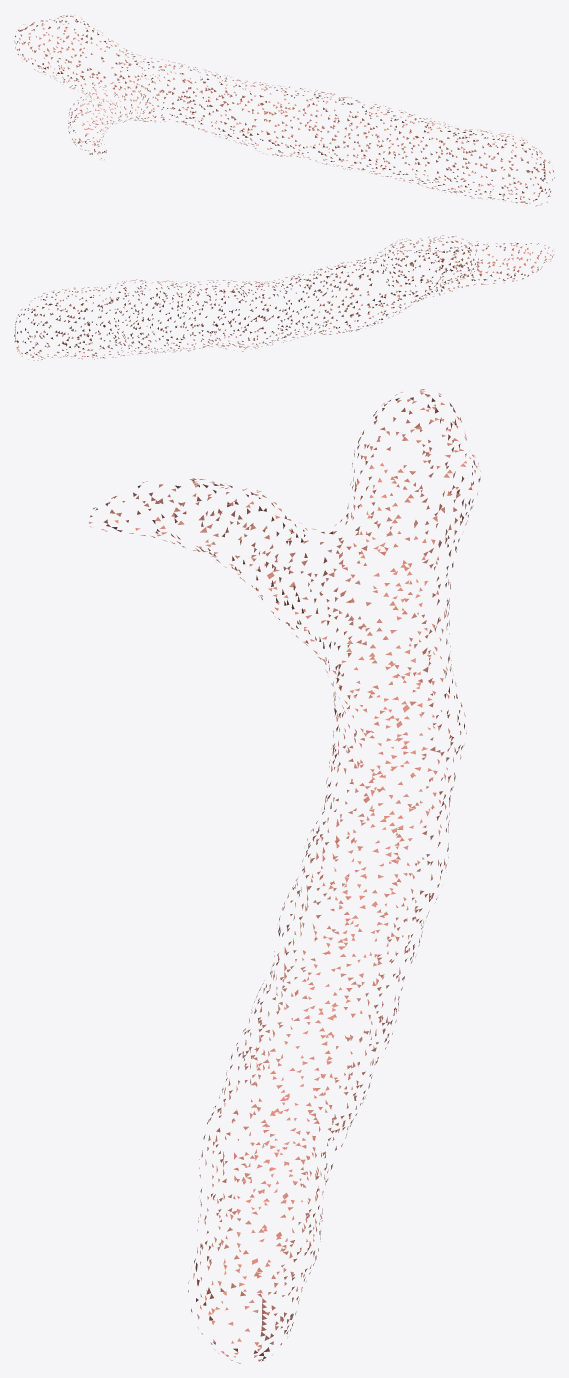
Rendered from morph_002.glb.
3 views of the same model, one above another, from view 1: azimuth 30°, elevation 25°; view 2: azimuth 150°, elevation 25°; view 3: azimuth 270°, elevation 25° (orthographic). The views are drawn at different scales.
Size of the model in its own units: 134 by 67.52 by 46.23.
